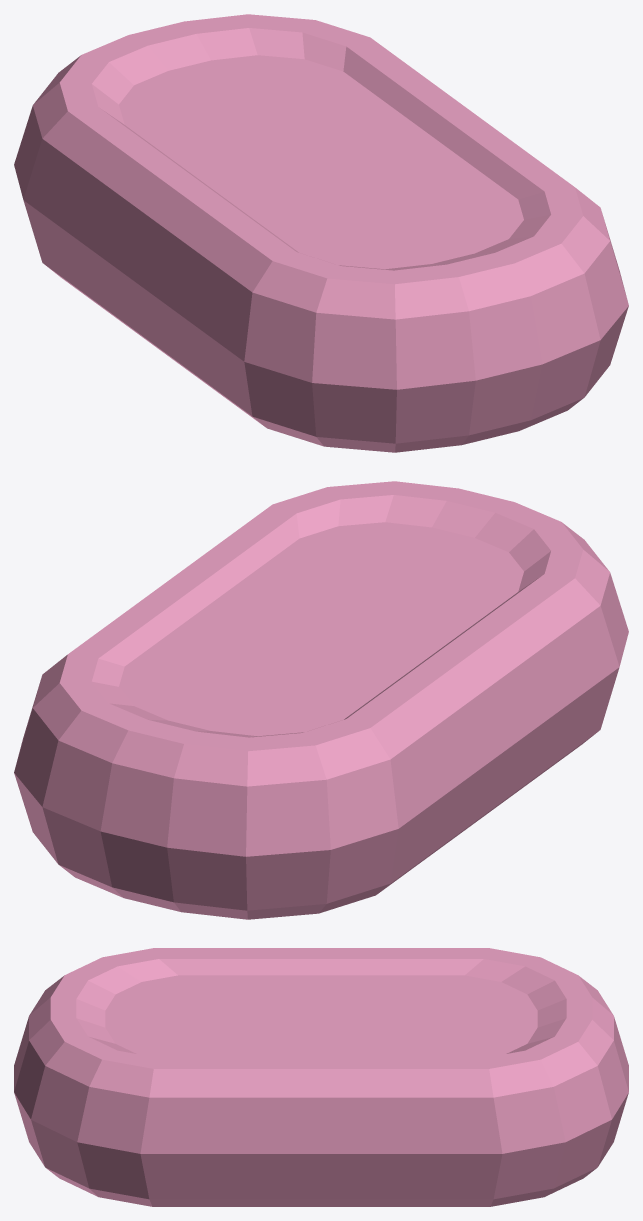
Rendered from Soap.fbx.
3 renders of one model, top to bottom at view 1: azimuth 30°, elevation 25°; view 2: azimuth 150°, elevation 25°; view 3: azimuth 270°, elevation 25°, orthographic. The views are drawn at different scales.
Parts seen in each view (by area): view 1: Cube; view 2: Cube; view 3: Cube.
Part boxes in pixels (bbox=[...]): Cube: bbox=[14, 14, 628, 452]; Cube: bbox=[14, 481, 628, 919]; Cube: bbox=[14, 948, 628, 1206].
Size of the model in its own units: 238 by 100 by 411.
